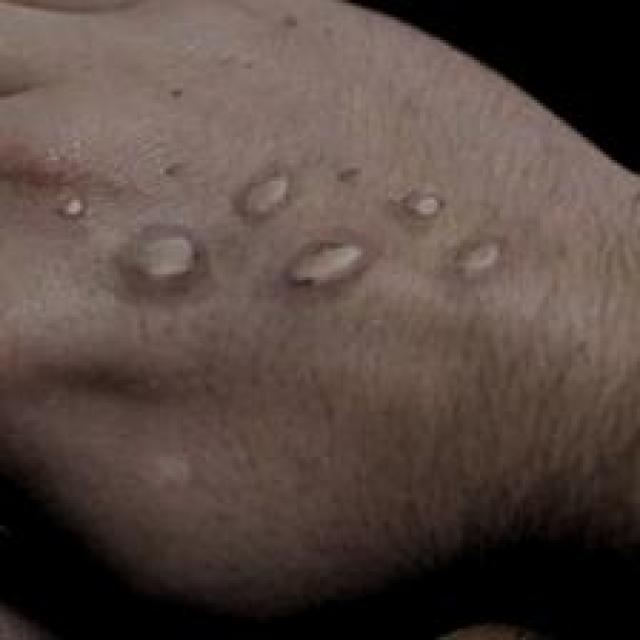monkeypox: (44, 70, 517, 398)
